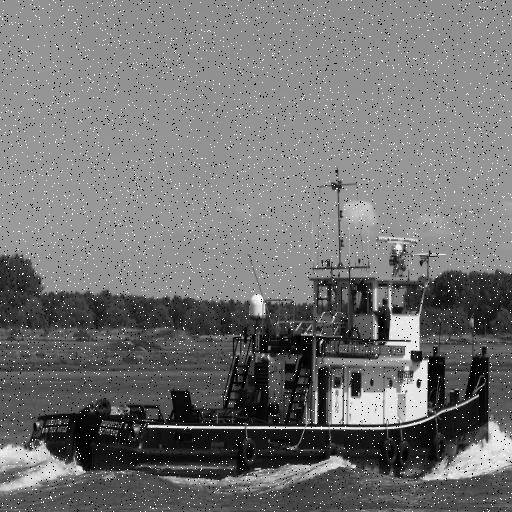tugboat: (24, 232, 494, 492)
